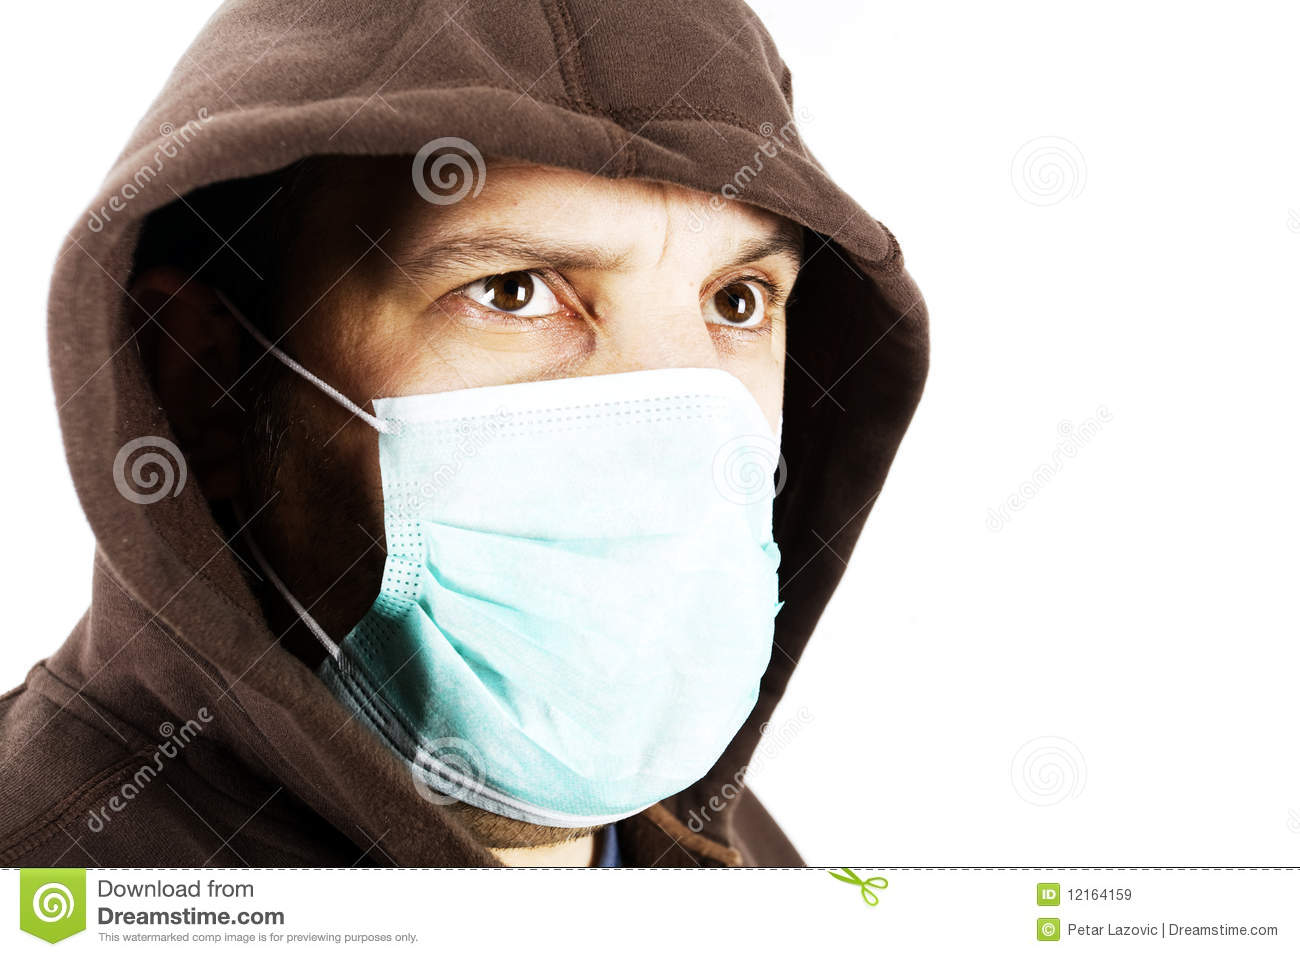mask: (335, 371, 782, 830)
